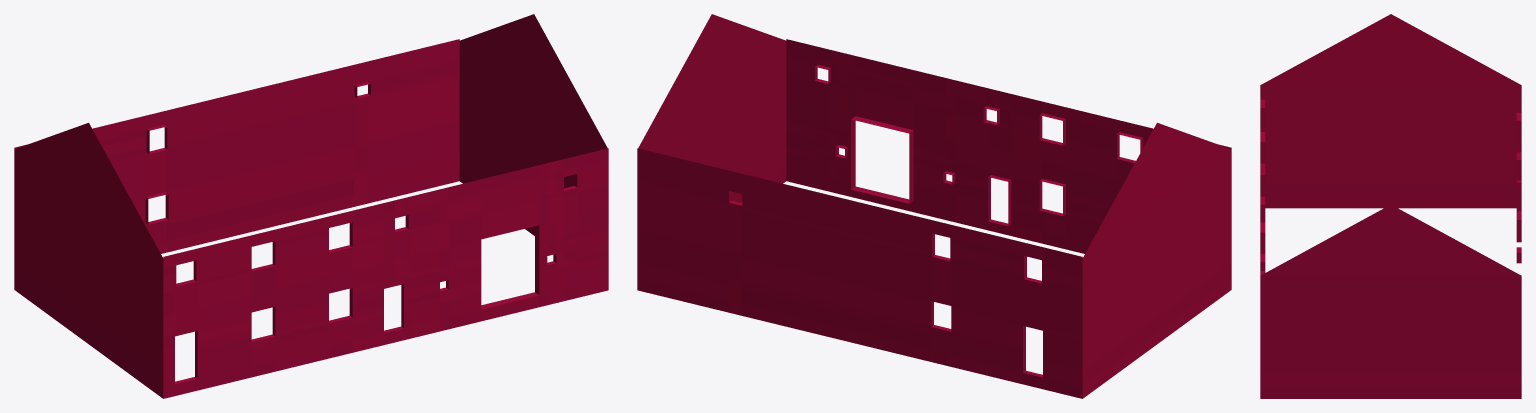
File: SM_Bld_047_Masonry.glb
3 views of the same model, side by side, from view 1: azimuth 30°, elevation 25°; view 2: azimuth 150°, elevation 25°; view 3: azimuth 270°, elevation 25° (orthographic). The views are drawn at different scales.
Parts seen in each view (by area): view 1: SM_Bld_047_Masonry; view 2: SM_Bld_047_Masonry; view 3: SM_Bld_047_Masonry.
Part boxes in pixels (<box>): SM_Bld_047_Masonry: <box>14,14,608,398</box>; SM_Bld_047_Masonry: <box>637,14,1231,398</box>; SM_Bld_047_Masonry: <box>1260,14,1521,398</box>.
Size of the model in its own units: 19.9 by 9.47 by 11.54.
